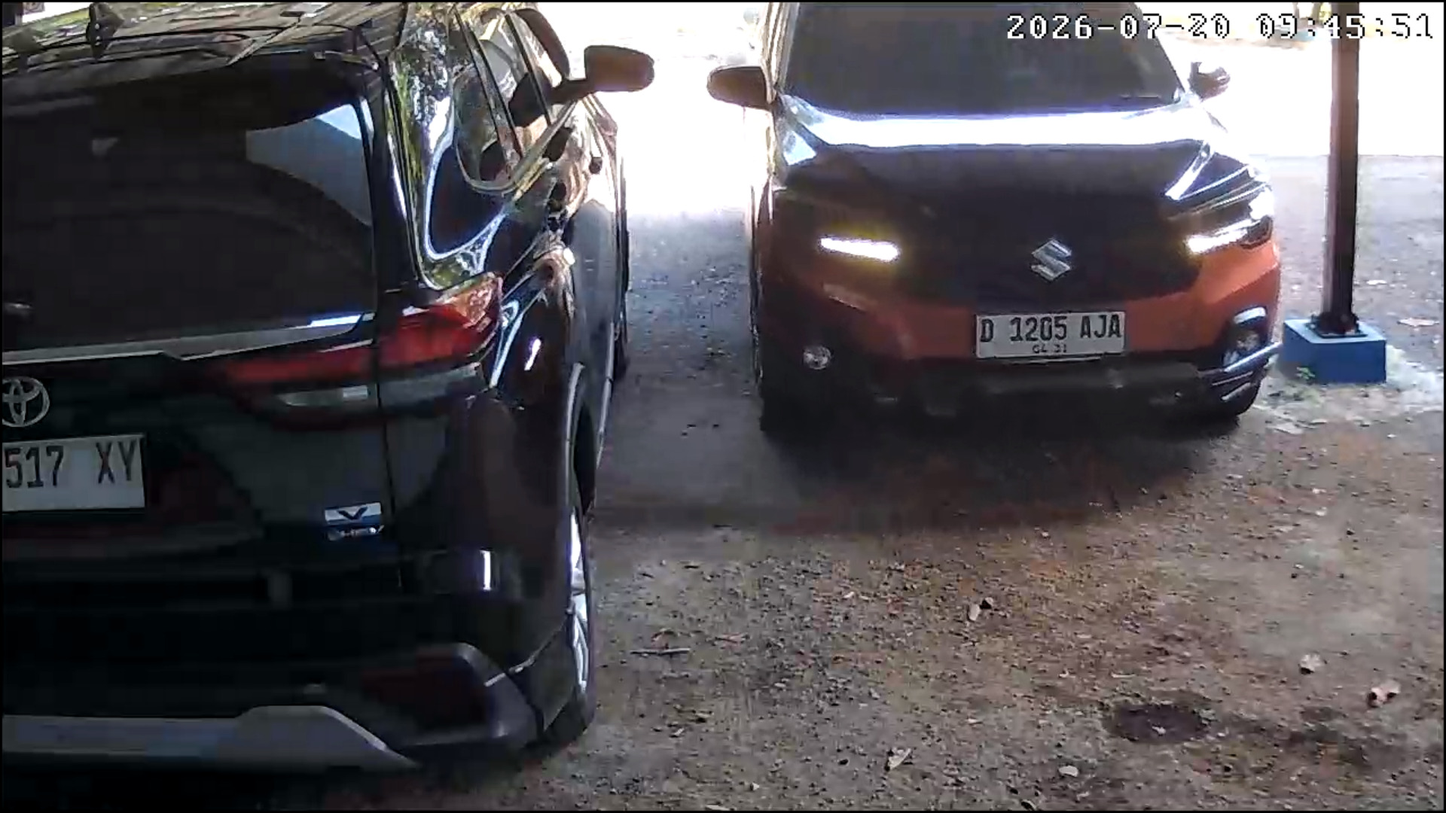plat nomor: (973, 309, 1128, 363)
